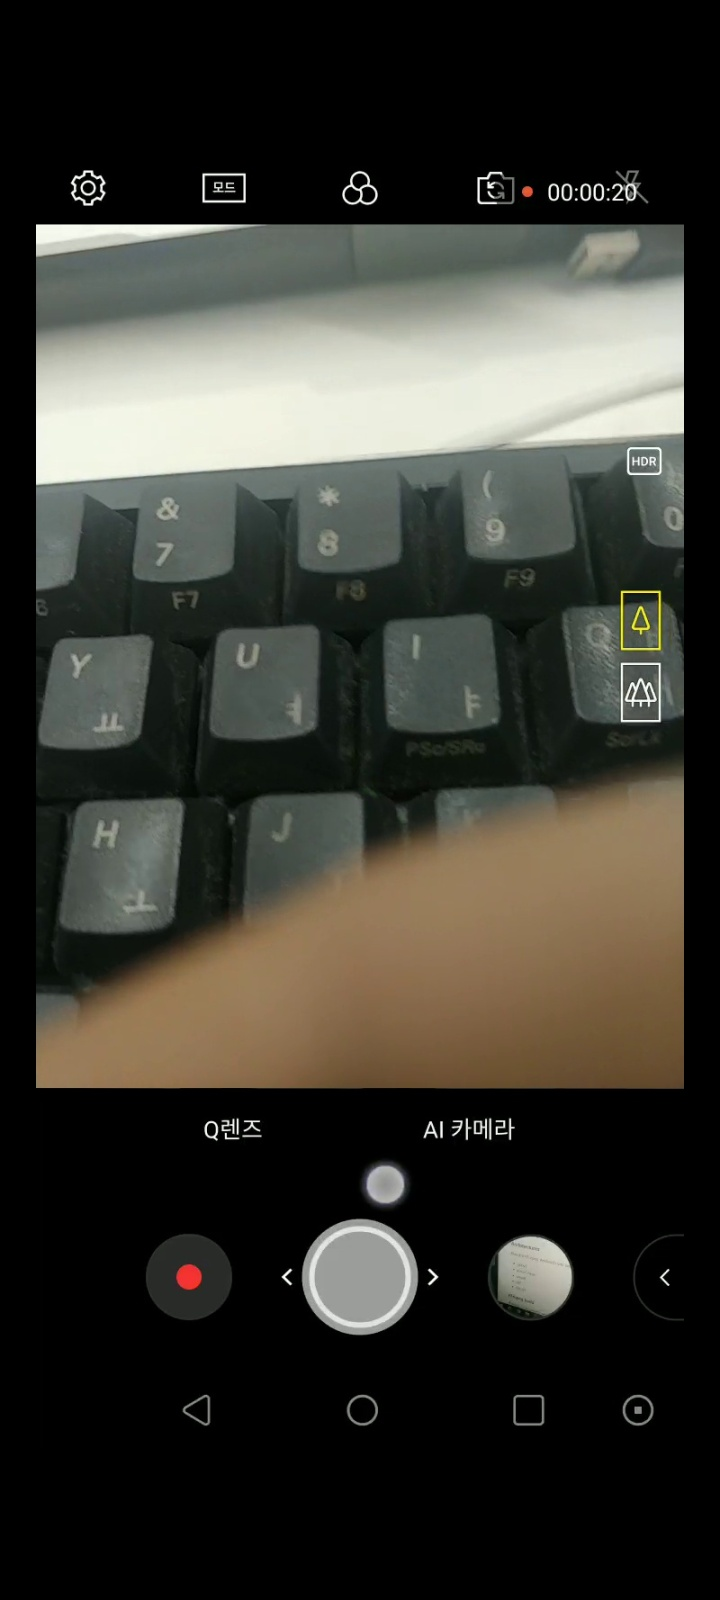Cursor: (363, 1162, 408, 1207)
